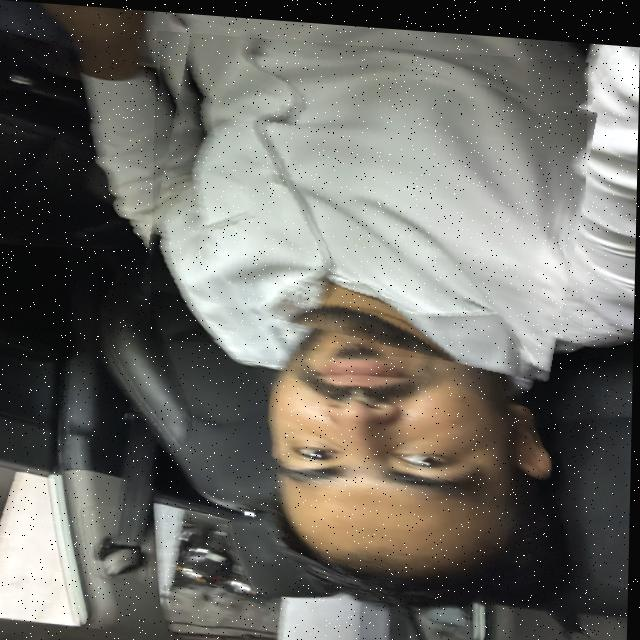no-seatbelt: (151, 28, 589, 361)
